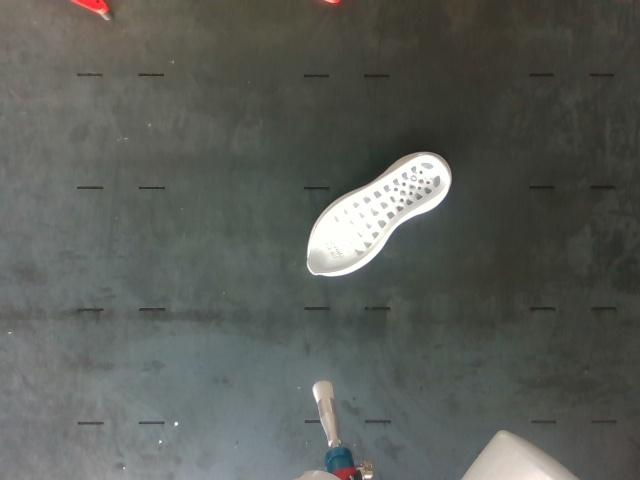shoes: (308, 155, 449, 273)
